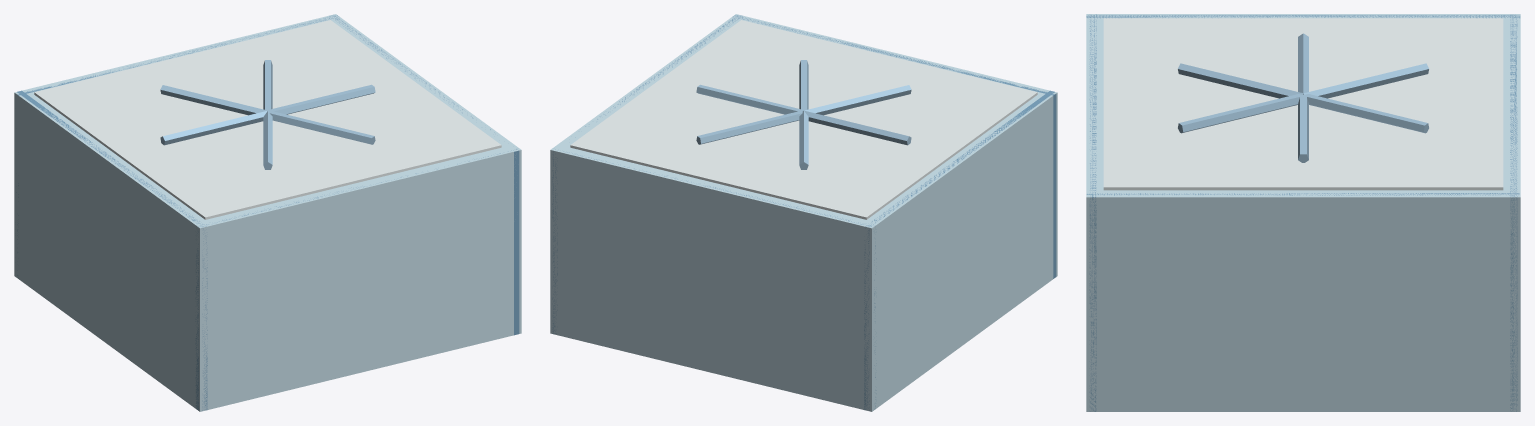
File: bloque_oculto.glb
3 renders of one model, left to right at view 1: azimuth 30°, elevation 25°; view 2: azimuth 150°, elevation 25°; view 3: azimuth 270°, elevation 25°, orthographic. The views are drawn at different scales.
Parts seen in each view (by area): view 1: bloque_oculto; view 2: bloque_oculto; view 3: bloque_oculto.
Boxes of the visible parts, x1,y1,x2,y2 form: bloque_oculto: [14, 14, 521, 411]; bloque_oculto: [550, 14, 1057, 411]; bloque_oculto: [1086, 14, 1520, 411].
Bounding box in the file's own units: 1.65 × 0.952 × 1.65.
